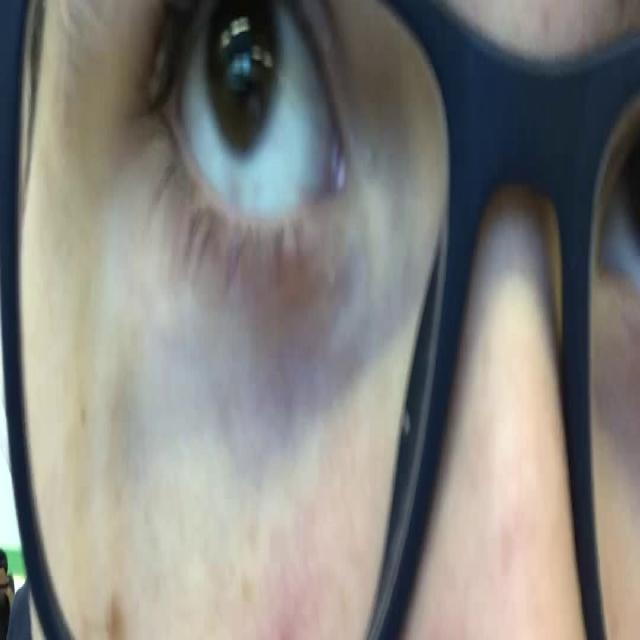gaze: (201, 0, 286, 165)
